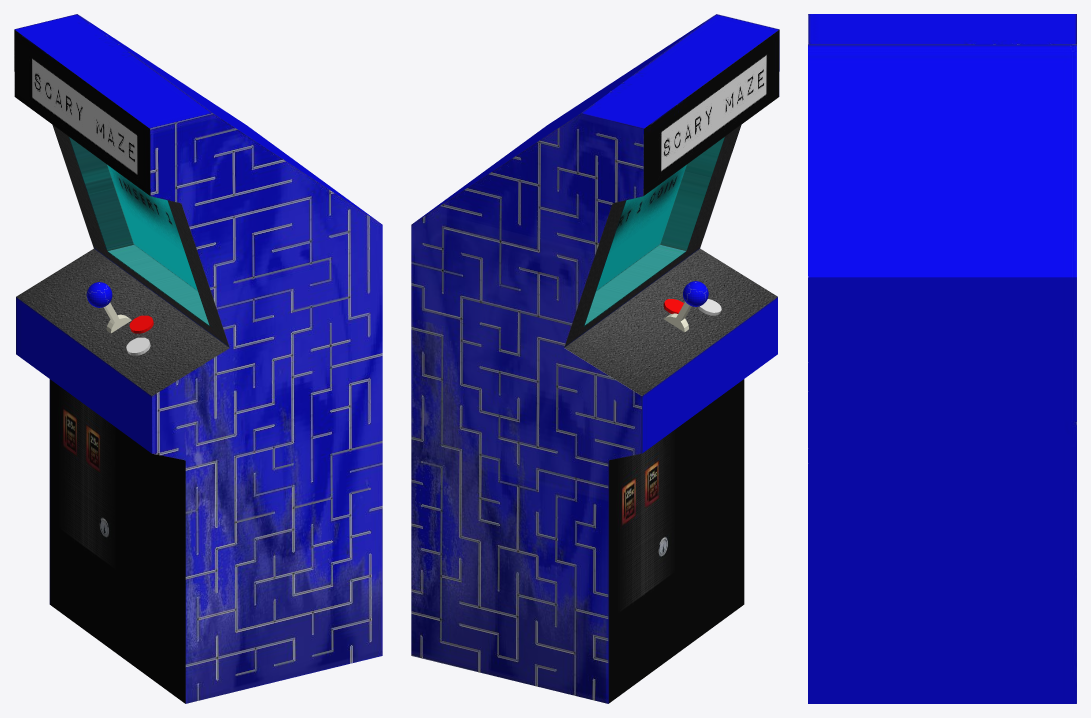
File: Arade Machine(Scary Maze).fbx
3 renders of one model, left to right at view 1: azimuth 30°, elevation 25°; view 2: azimuth 150°, elevation 25°; view 3: azimuth 270°, elevation 25°, orthographic.
Parts seen in each view (by area): view 1: Body, Joystick; view 2: Body, Joystick; view 3: Body.
Part boxes in pixels (bbox=[...]): Body: bbox=[14, 14, 382, 703]; Joystick: bbox=[86, 282, 131, 333]; Body: bbox=[411, 14, 779, 703]; Joystick: bbox=[664, 281, 708, 332]; Body: bbox=[808, 14, 1076, 703].
Size of the model in its own units: 304 by 728 by 307.
